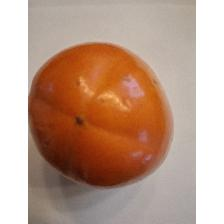Kaki: (30, 33, 178, 192)
